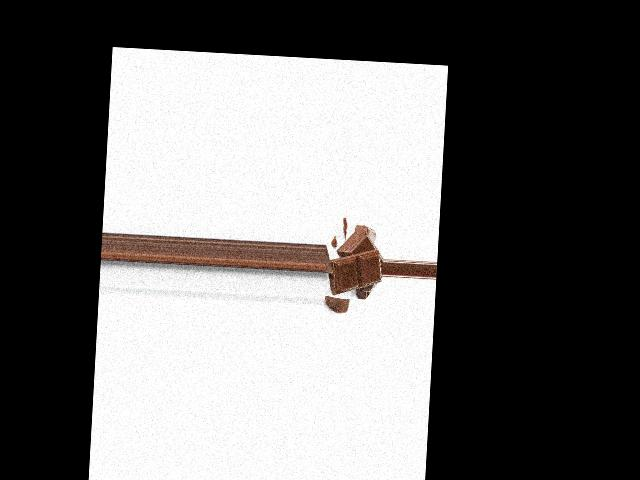chocolate: (329, 246, 381, 295)
